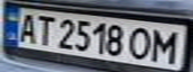1: (87, 20, 109, 55)
2: (54, 16, 78, 51)
5: (72, 18, 93, 53)
8: (106, 21, 127, 57)
A: (15, 10, 42, 44)
M: (148, 27, 187, 64)
O: (127, 25, 157, 61)
T: (30, 12, 57, 47)
